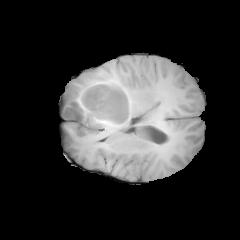glioma: (62, 73, 136, 135)
